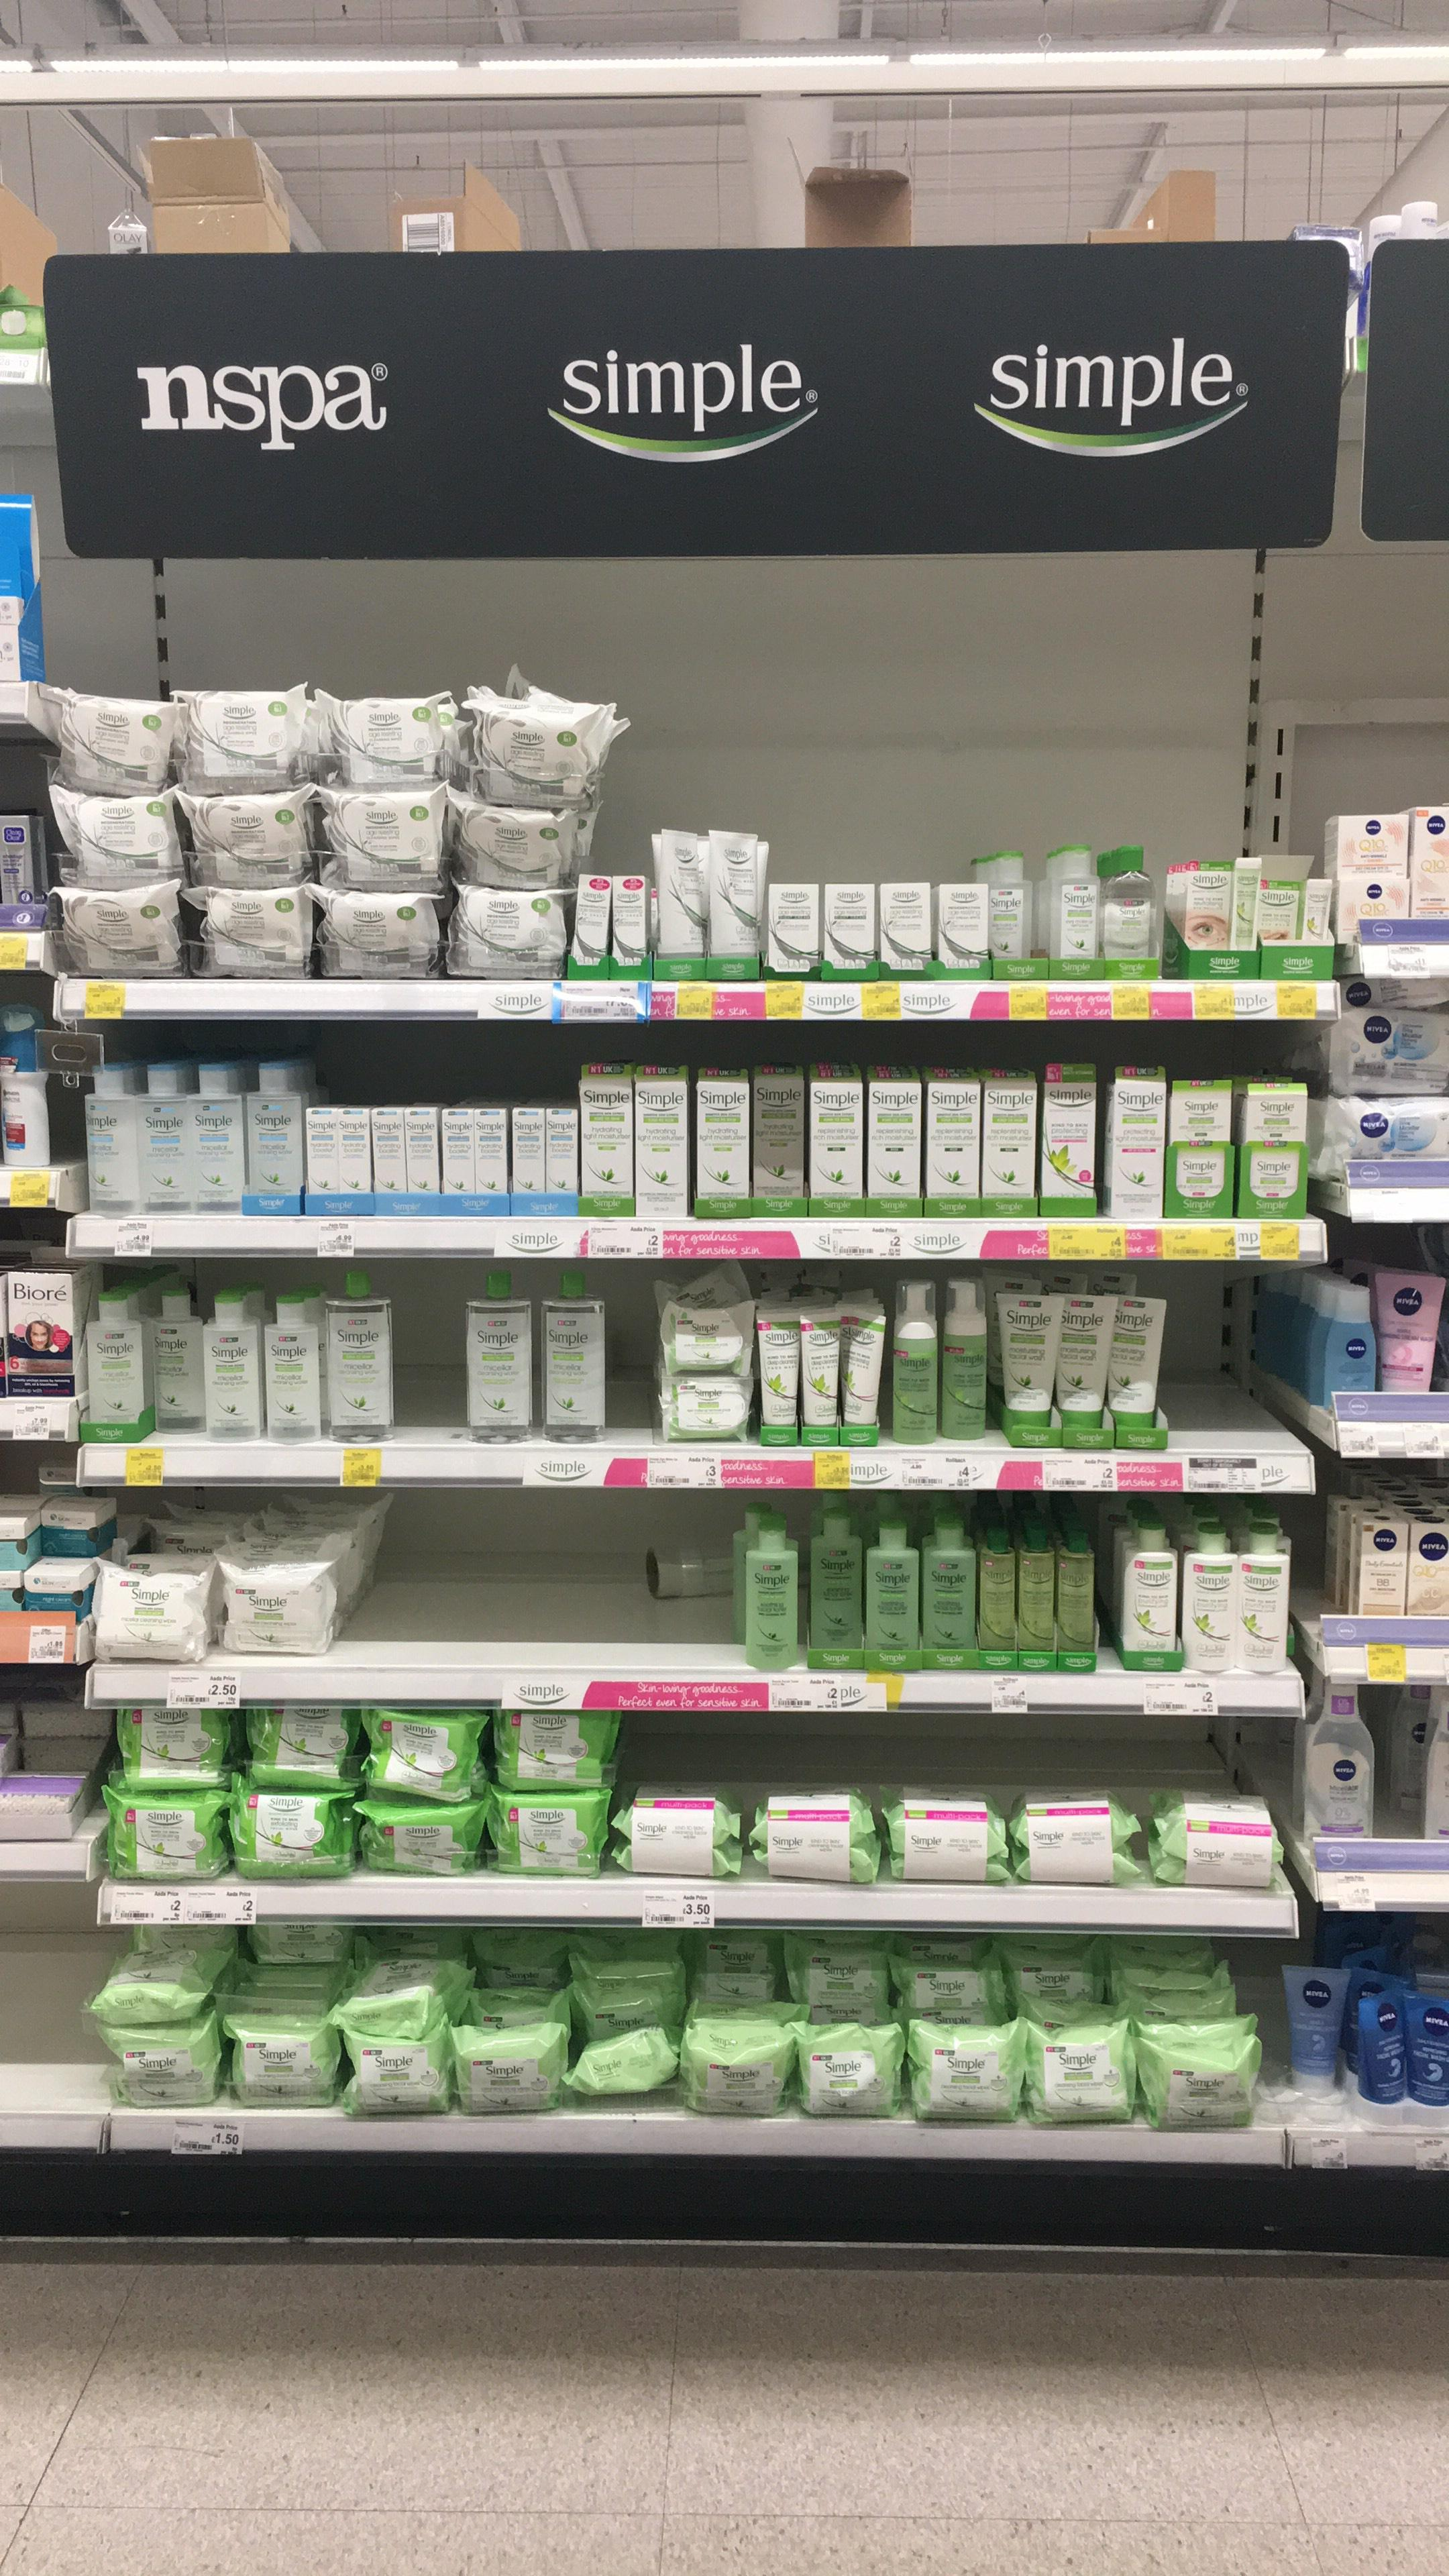empty: (403, 1507, 635, 1631), (1169, 1274, 1265, 1438), (12, 1897, 88, 2098), (403, 1272, 460, 1438), (610, 1277, 653, 1435)
misalignment: (570, 2028, 685, 2107), (651, 1537, 741, 1605), (840, 1299, 883, 1438)
